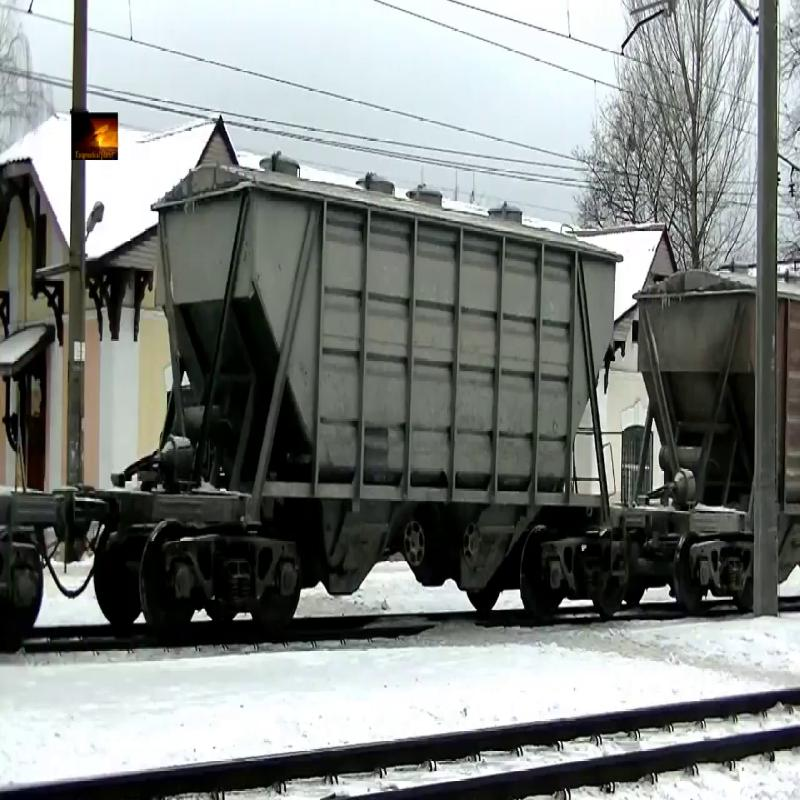train: (140, 173, 619, 623)
